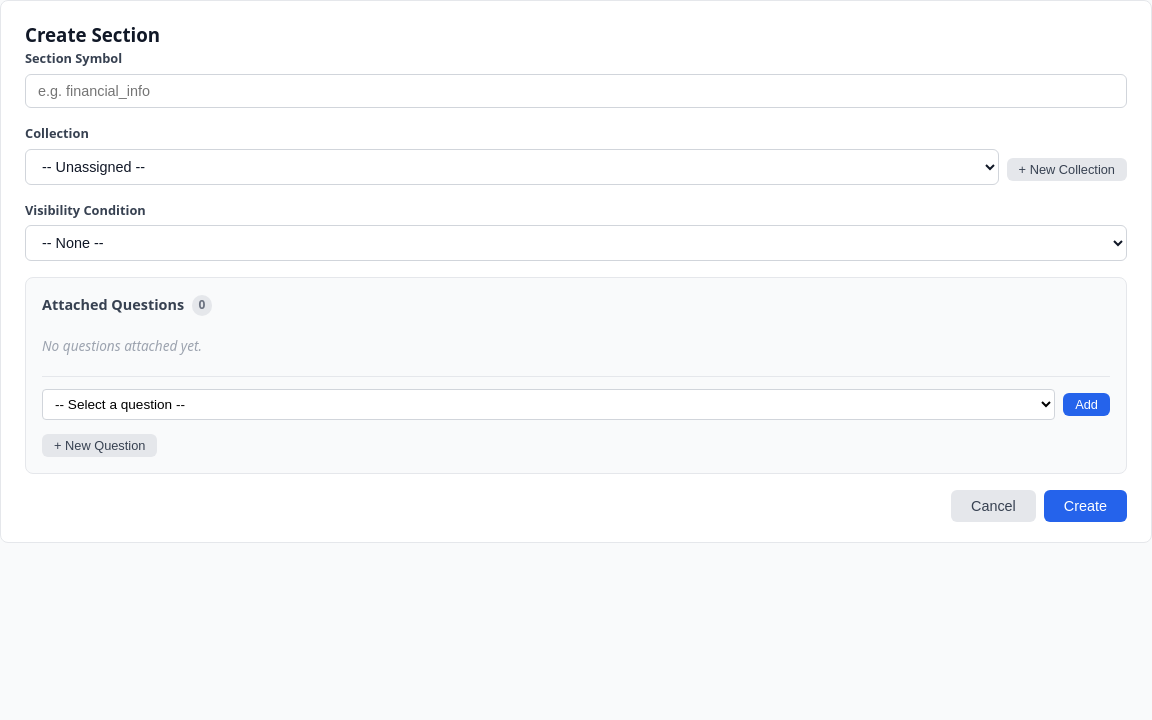
it: SectionForm › given an invalid symbol pattern › when submitted, then shows symbol pattern validation error
In the field labelled "Section Symbol": (576, 91) [25,74,1127,108], type "hello world"
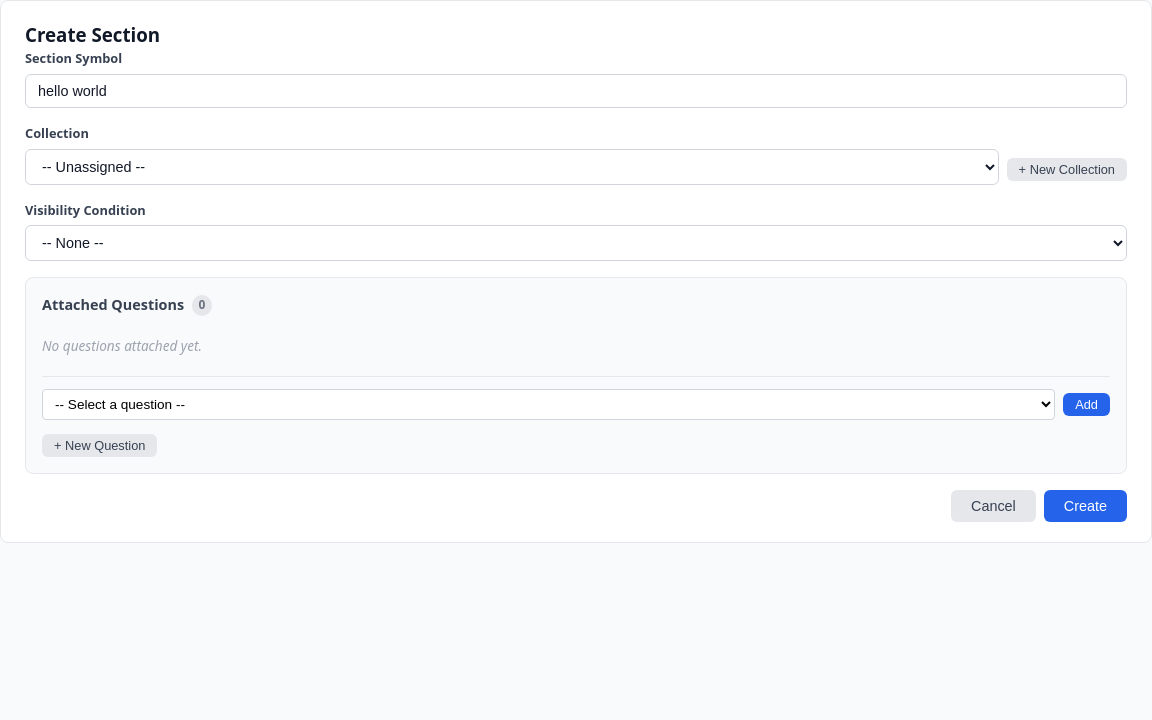
Click the button "Create": click(1085, 506) [1044,490,1127,522]
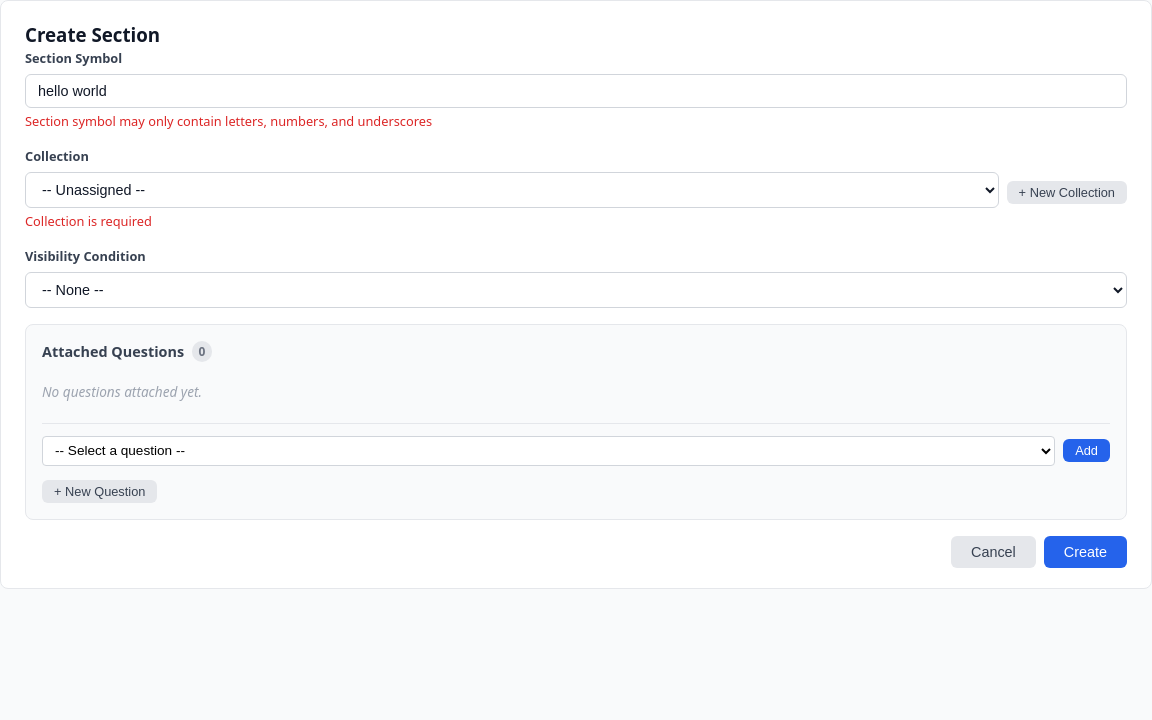
expect the text "Section symbol may only contain letters, numbers, and underscores" is shown: met, box [25,112,432,130]
